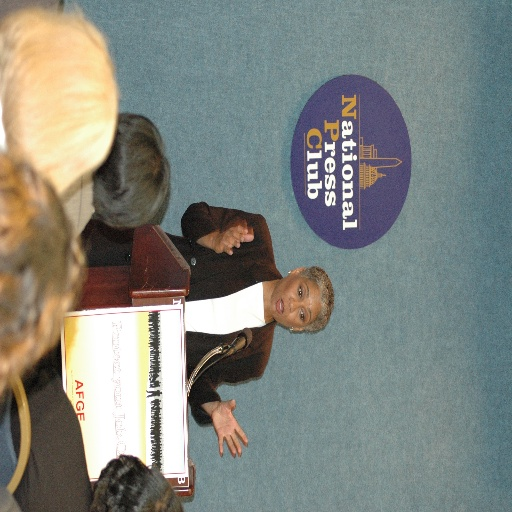hand: (203, 395, 247, 463), (215, 224, 254, 257)
